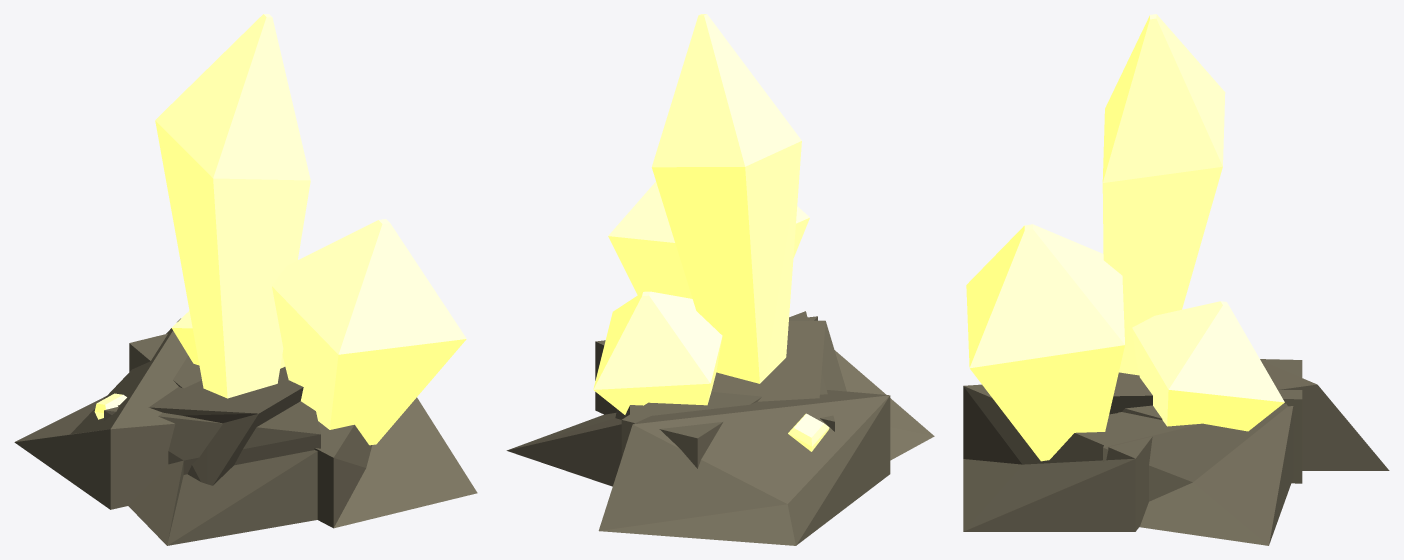
The model's file is goldOre.fbx.
3 renders of one model, left to right at view 1: azimuth 30°, elevation 25°; view 2: azimuth 150°, elevation 25°; view 3: azimuth 270°, elevation 25°, orthographic. The views are drawn at different scales.
Visible parts, largest first — view 1: ore; view 2: ore; view 3: ore.
Boxes of the visible parts, <box> form: ore: <box>14,14,477,545</box>; ore: <box>506,14,934,545</box>; ore: <box>963,14,1389,545</box>.
Bounding box in the file's own units: 38.31 × 51.14 × 42.74.
